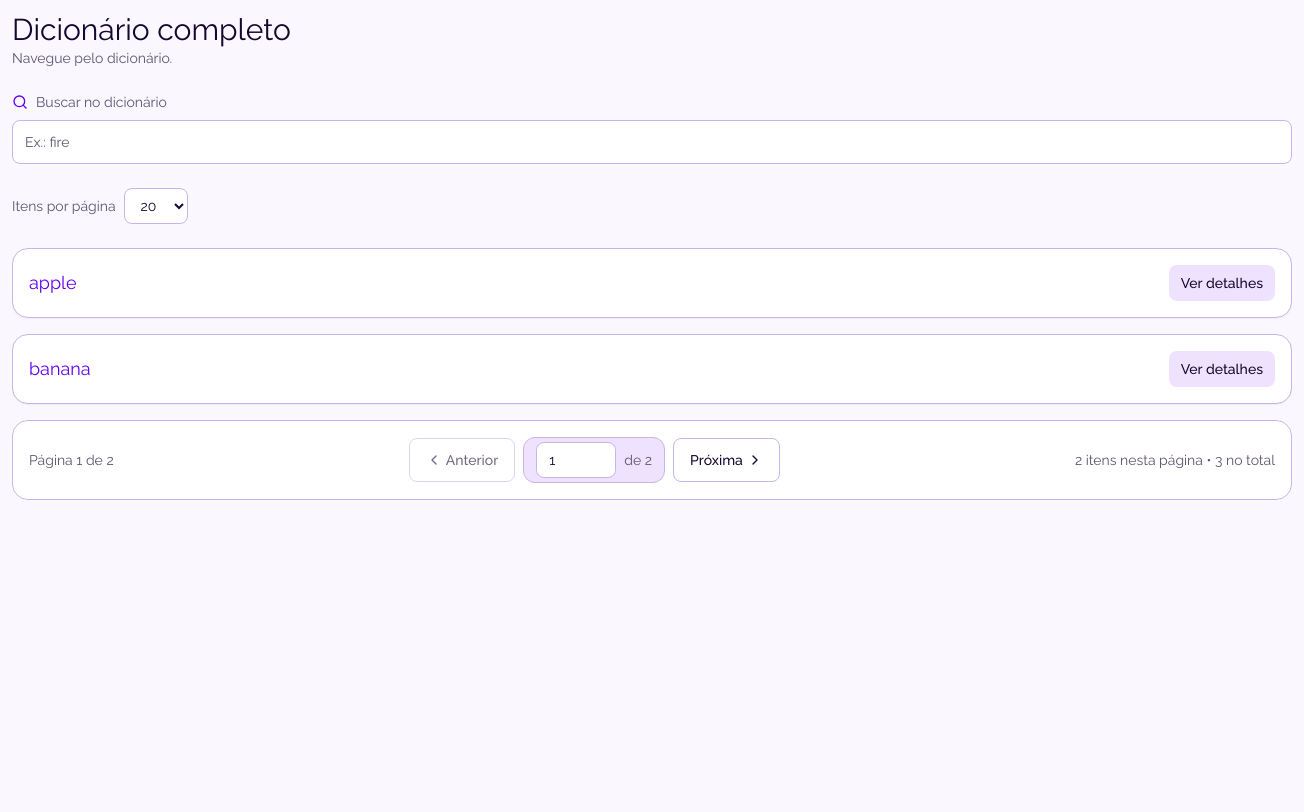
it: DictionaryPage › permite mudar de pagina e alterar itens por pagina
Step 1. Click the button with aria-label "próxima página" → (726, 460), box top-left (673, 438), bottom-right (780, 482)
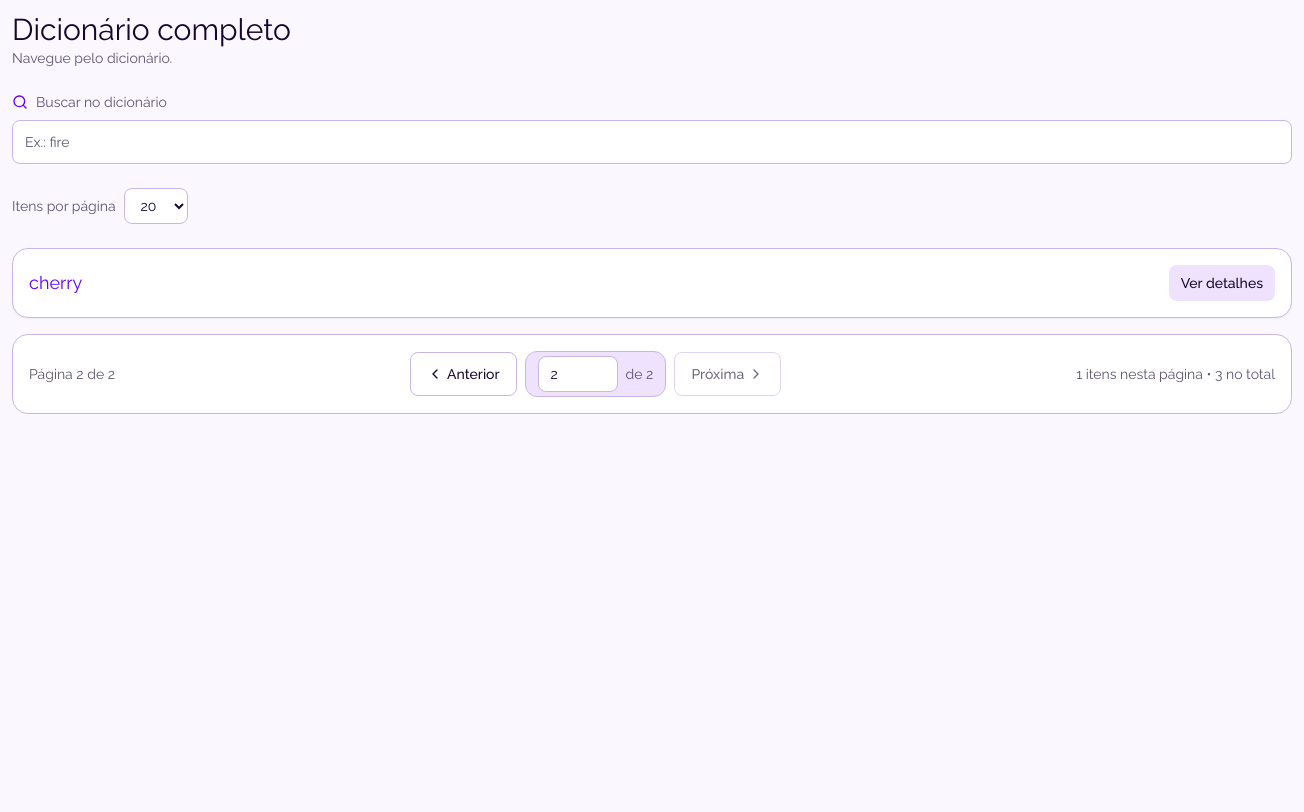
expect the link "cherry" is shown: met, box top-left (29, 272), bottom-right (82, 293)
Step 2. Select "50" in the dropdown labelled "Itens por página" → (156, 206), box top-left (124, 188), bottom-right (188, 224)
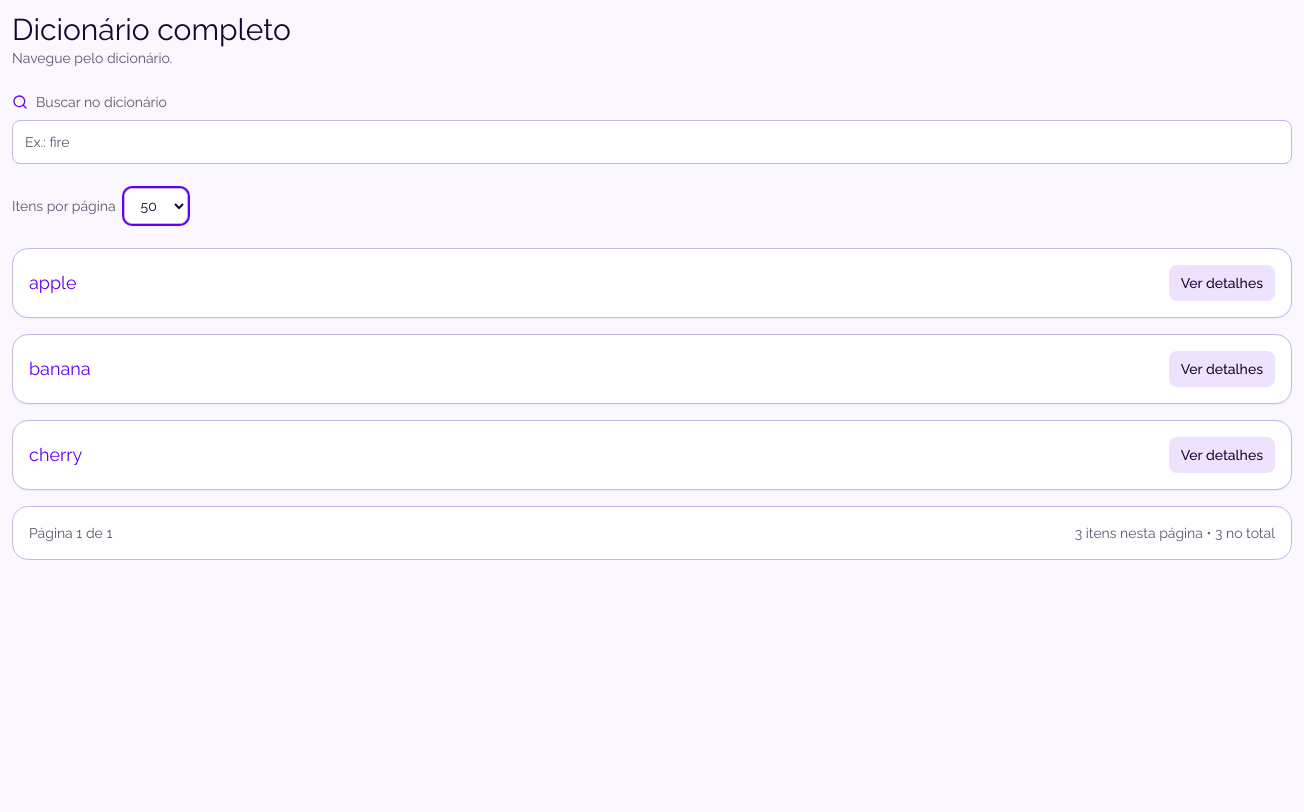
expect the link "cherry" is shown: met, box top-left (29, 444), bottom-right (82, 465)
expect the link "apple" is shown: met, box top-left (29, 272), bottom-right (76, 293)
expect the link "banana" is shown: met, box top-left (29, 358), bottom-right (90, 379)
